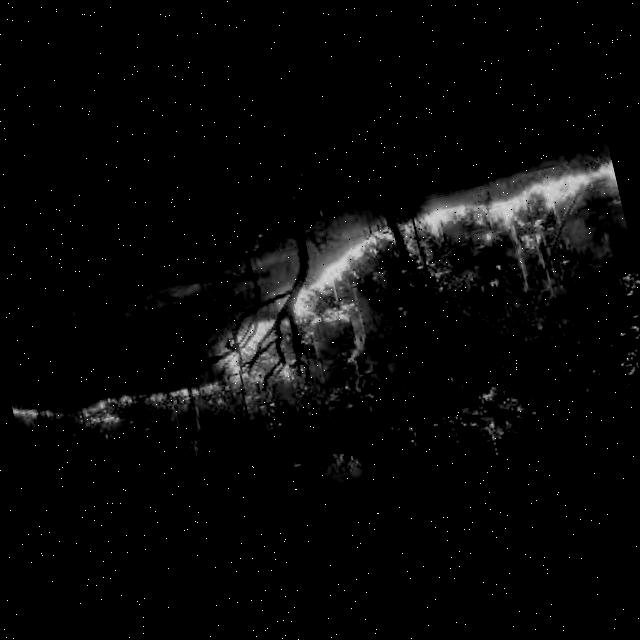fire: (9, 376, 116, 460), (111, 360, 233, 429), (295, 222, 402, 300), (269, 277, 339, 335)
